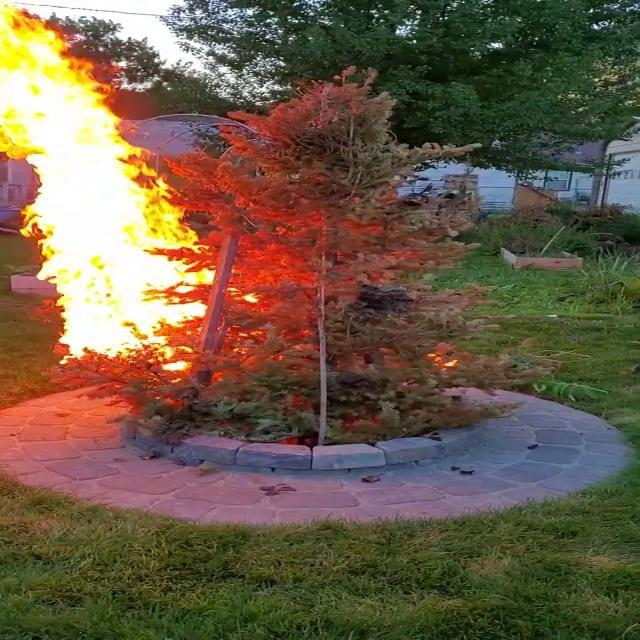Fire: (1, 4, 249, 363)
